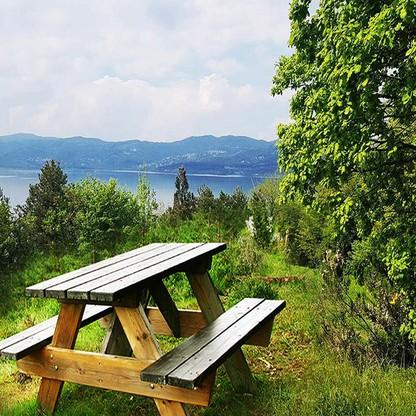obstacle: (5, 225, 295, 404)
